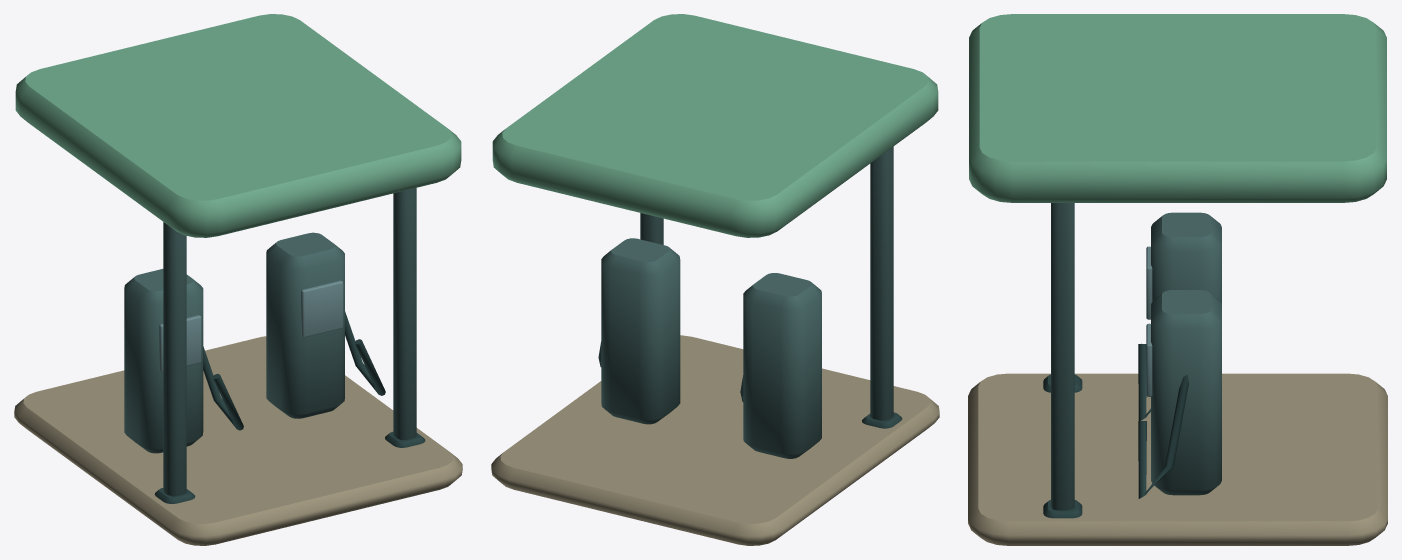
Rendered from charge_works_2.glb.
3 renders of one model, left to right at view 1: azimuth 30°, elevation 25°; view 2: azimuth 150°, elevation 25°; view 3: azimuth 270°, elevation 25°, orthographic. The views are drawn at different scales.
Parts seen in each view (by area): view 1: ChargeWorks2; view 2: ChargeWorks2; view 3: ChargeWorks2.
Boxes of the visible parts, x1=… form: ChargeWorks2: x1=14, y1=14, x2=462, y2=545; ChargeWorks2: x1=491, y1=14, x2=939, y2=545; ChargeWorks2: x1=968, y1=14, x2=1387, y2=545.
Bounding box in the file's own units: 2.19 × 2.51 × 2.48.
